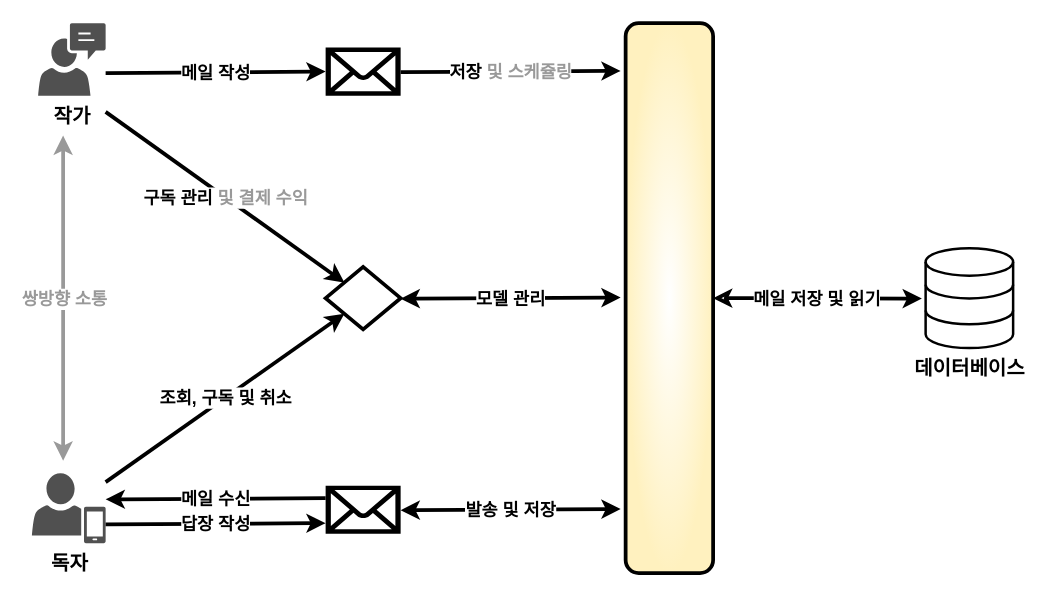
The diagram is 1046 pixels wide and 598 high, and some of its shapes have lost their labels. Here are the shapes that lost their labels. From the top down, the centre of each, then its label:
the point at 362,297: 구독
the point at 668,297: 내밀함
